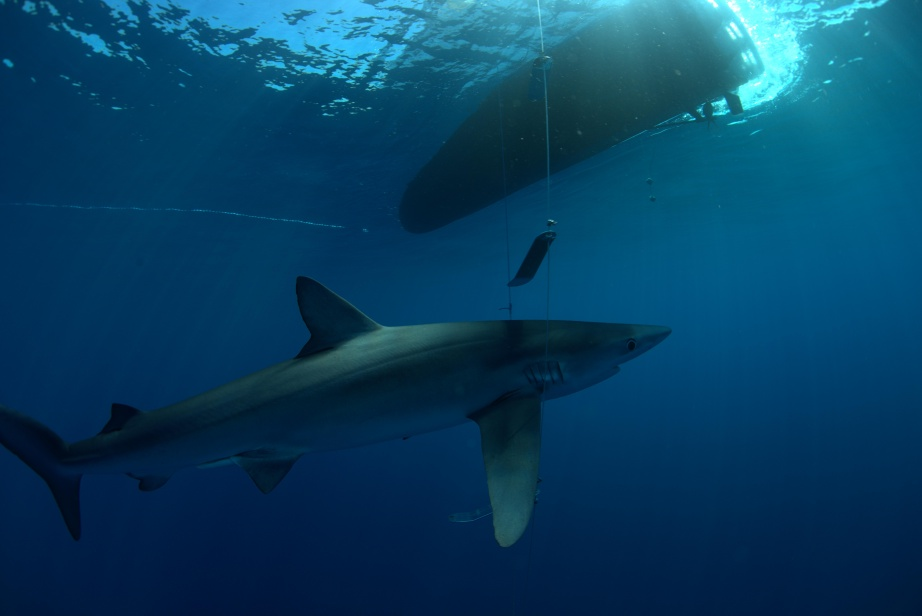Azul: (1, 261, 707, 546)
